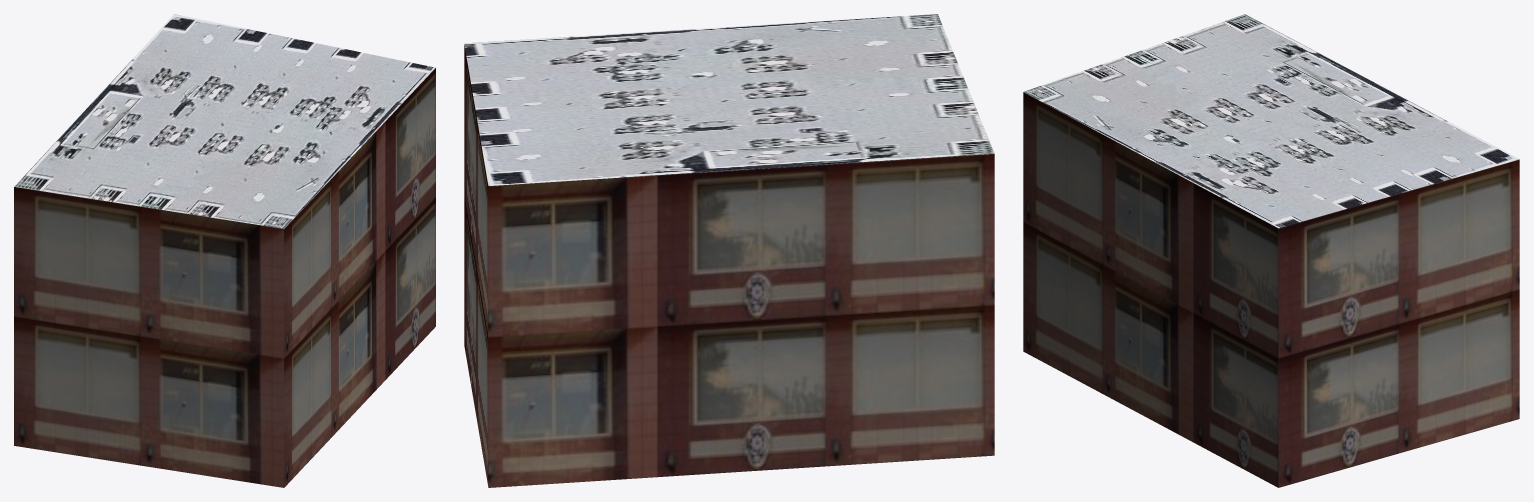
File: ResTex__2717.fbx
3 views of the same model, side by side, from view 1: azimuth 30°, elevation 25°; view 2: azimuth 150°, elevation 25°; view 3: azimuth 270°, elevation 25° (orthographic). The views are drawn at different scales.
Visible parts, largest first — view 1: CityEngineMaterial_13_m, CityEngineMaterial_4_m; view 2: CityEngineMaterial_13_m, CityEngineMaterial_4_m; view 3: CityEngineMaterial_13_m, CityEngineMaterial_4_m.
Boxes of the visible parts, x1=… form: CityEngineMaterial_13_m: x1=14, y1=68, x2=435, y2=487; CityEngineMaterial_4_m: x1=14, y1=14, x2=435, y2=228; CityEngineMaterial_13_m: x1=464, y1=45, x2=994, y2=487; CityEngineMaterial_4_m: x1=464, y1=14, x2=994, y2=185; CityEngineMaterial_13_m: x1=1023, y1=92, x2=1519, y2=487; CityEngineMaterial_4_m: x1=1024, y1=14, x2=1519, y2=228.
Bounding box in the file's own units: 10.63 × 6 × 10.4.
2 materials, 2 textured.
